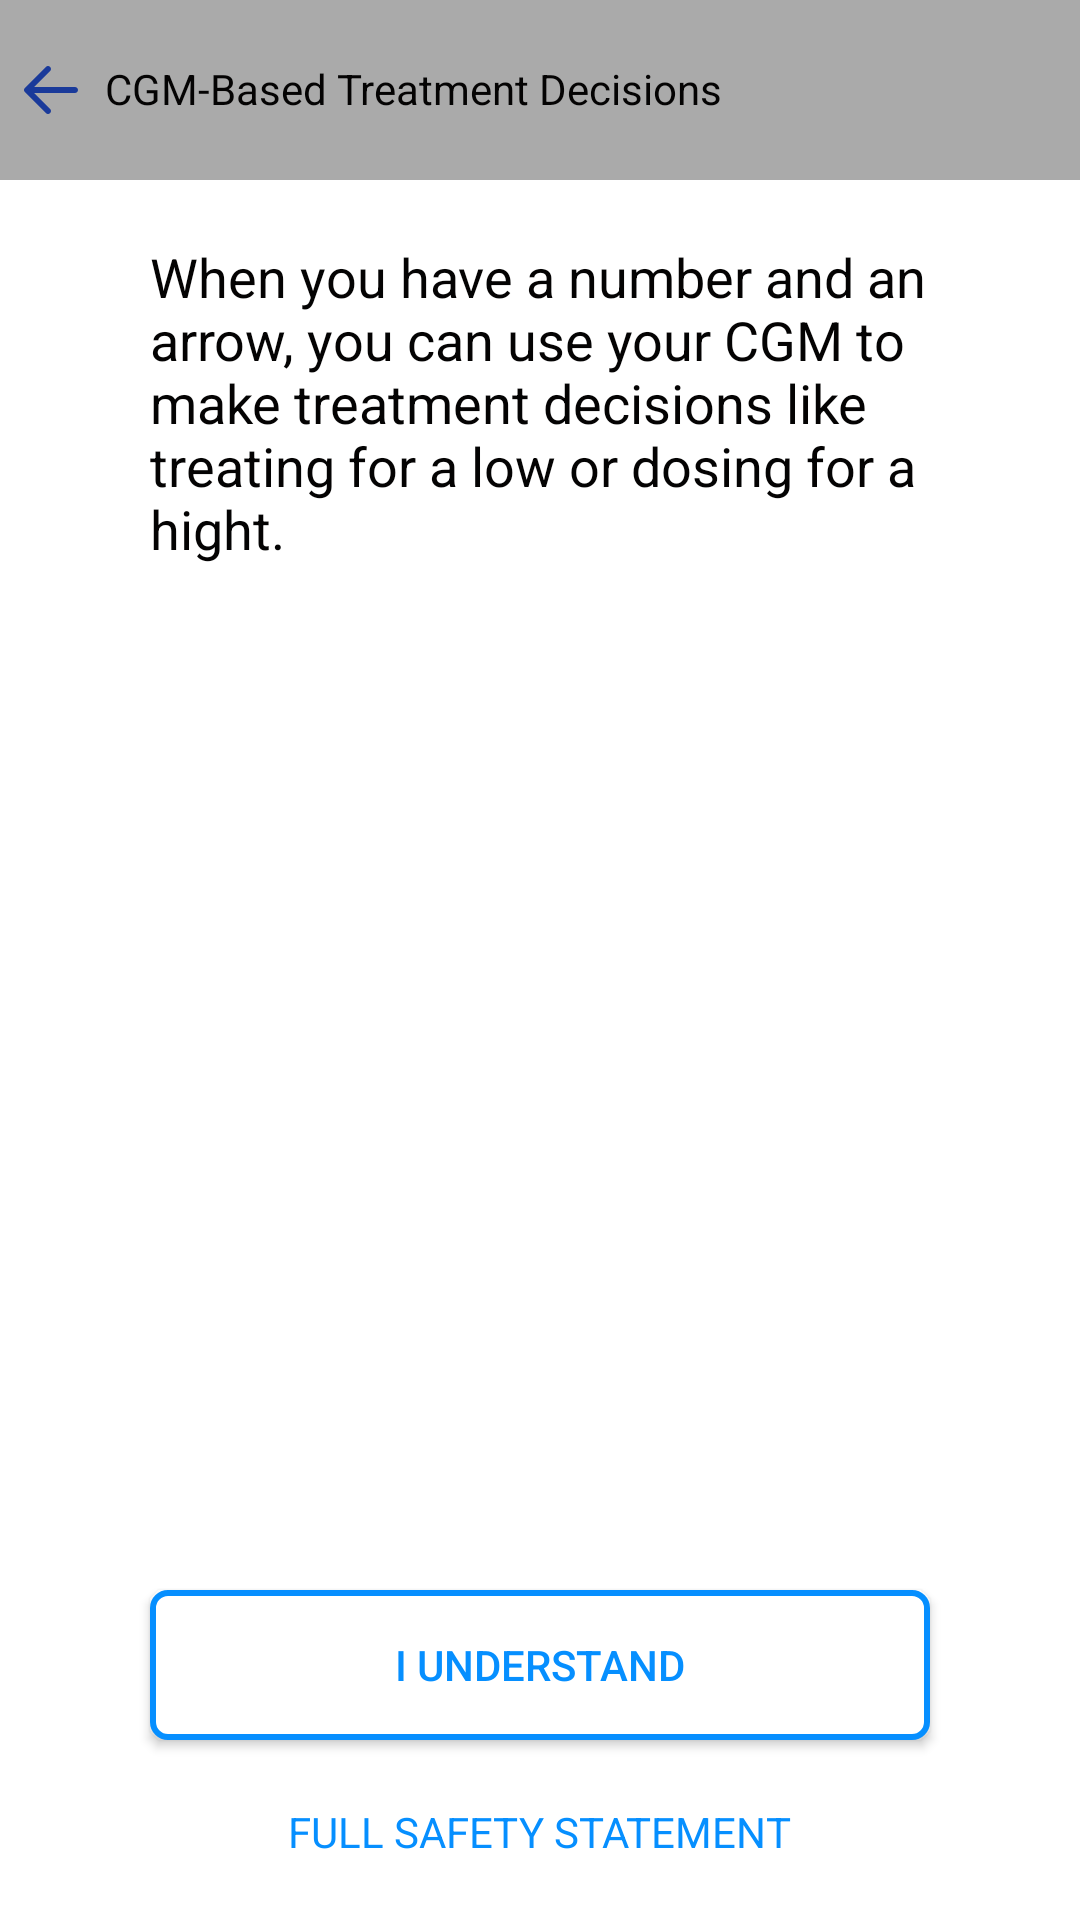

Icon bounding boxes for this 1080px×1920px phone screenshot, format (x1, y1, x2, y2):
left: (24, 66, 78, 114)
